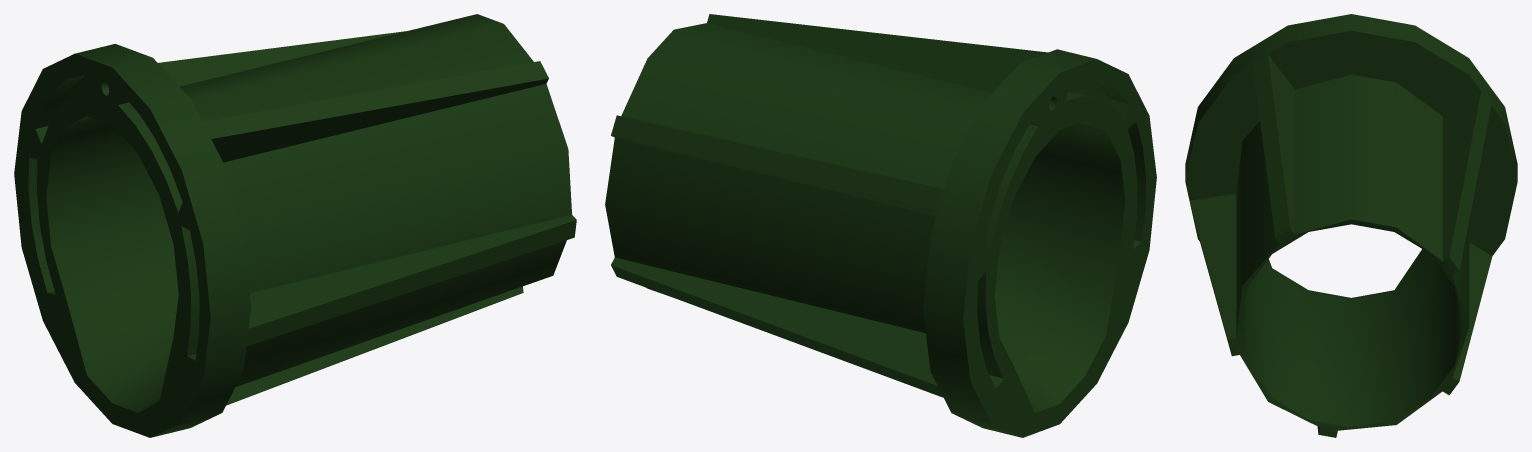
File: Борт_Разьем.fbx
3 renders of one model, left to right at view 1: azimuth 30°, elevation 25°; view 2: azimuth 150°, elevation 25°; view 3: azimuth 270°, elevation 25°, orthographic. The views are drawn at different scales.
Parts seen in each view (by area): view 1: ТРуба.002; view 2: ТРуба.002; view 3: ТРуба.002.
Boxes of the visible parts, x1,y1,x2,y2 form: ТРуба.002: [14, 14, 576, 437]; ТРуба.002: [605, 14, 1156, 437]; ТРуба.002: [1185, 14, 1517, 437].
Size of the model in its own units: 123 by 107 by 107.
Materials: 1 (1 with a texture image).
